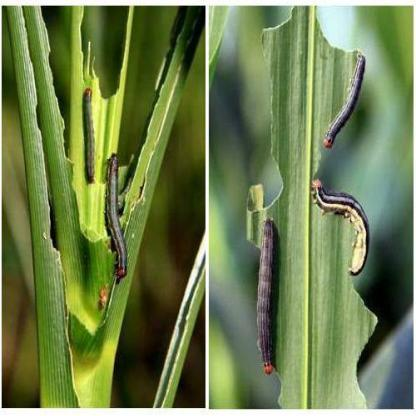armyworm: (306, 175, 371, 282), (254, 216, 284, 376), (322, 48, 367, 154), (101, 152, 130, 282), (82, 84, 98, 190)
